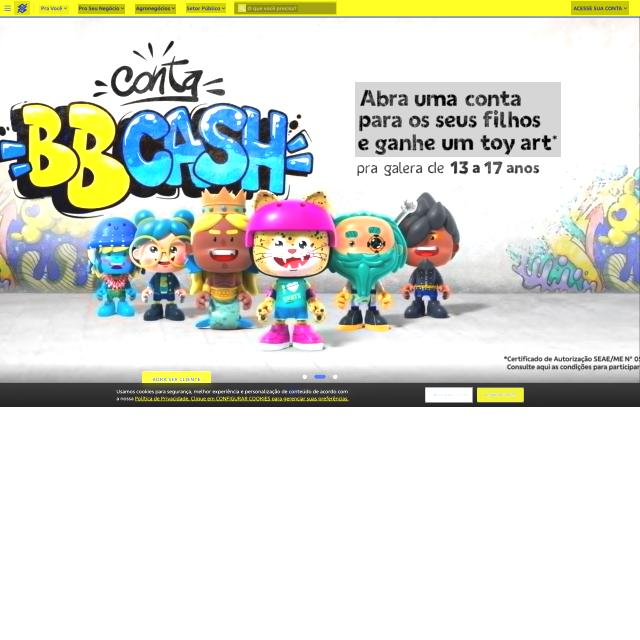CheckBox: (425, 387, 473, 403), (477, 387, 524, 403)
CheckedTextView: (234, 1, 337, 15)
alert: (571, 1, 629, 15), (78, 4, 125, 14), (135, 4, 176, 14), (186, 3, 226, 13), (39, 5, 69, 14)
bag: (0, 0, 640, 18)
card: (0, 17, 639, 383)
carousel: (238, 4, 246, 12)
date picker: (14, 1, 30, 15)
decoration: (2, 4, 13, 13)
footer: (246, 5, 298, 12)
header: (0, 383, 640, 407)
image: (355, 82, 561, 157)
